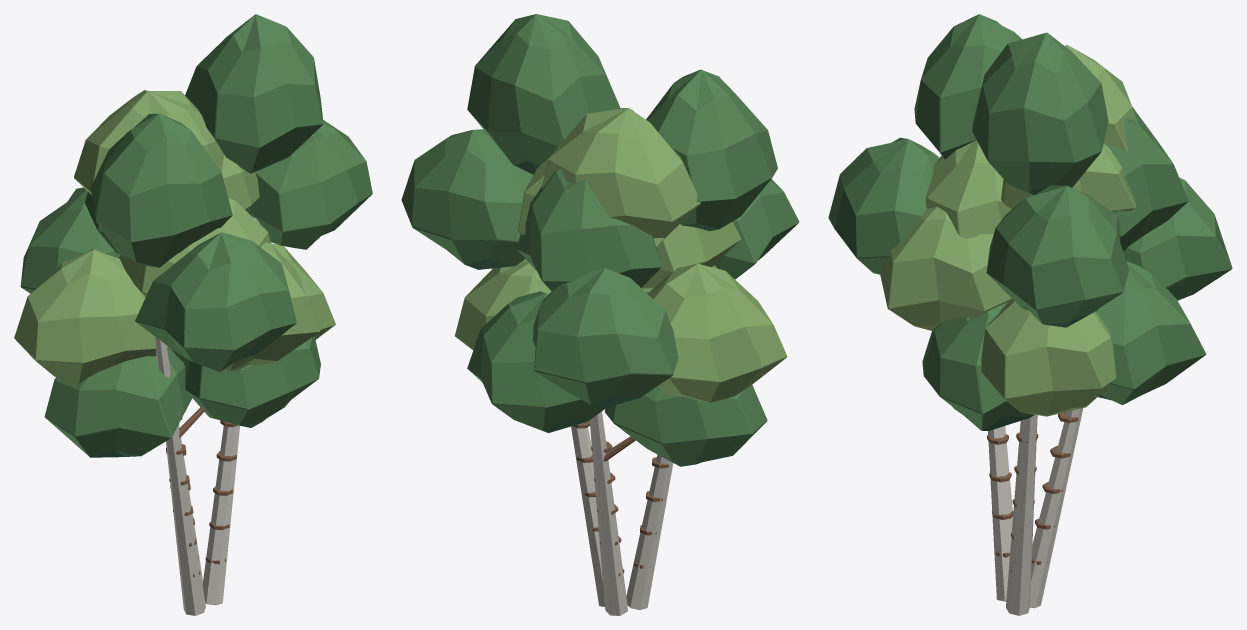
The model's file is b08_river_birch_clump.glb.
3 views of the same model, side by side, from view 1: azimuth 30°, elevation 25°; view 2: azimuth 150°, elevation 25°; view 3: azimuth 270°, elevation 25° (orthographic). The views are drawn at different scales.
Parts seen in each view (by area): view 1: b08_river_birch_clump; view 2: b08_river_birch_clump; view 3: b08_river_birch_clump.
Boxes of the visible parts, x1=… form: b08_river_birch_clump: x1=14, y1=14, x2=372, y2=615; b08_river_birch_clump: x1=401, y1=14, x2=799, y2=615; b08_river_birch_clump: x1=828, y1=14, x2=1232, y2=615.
Bounding box in the file's own units: 3.96 × 6.24 × 3.75.
